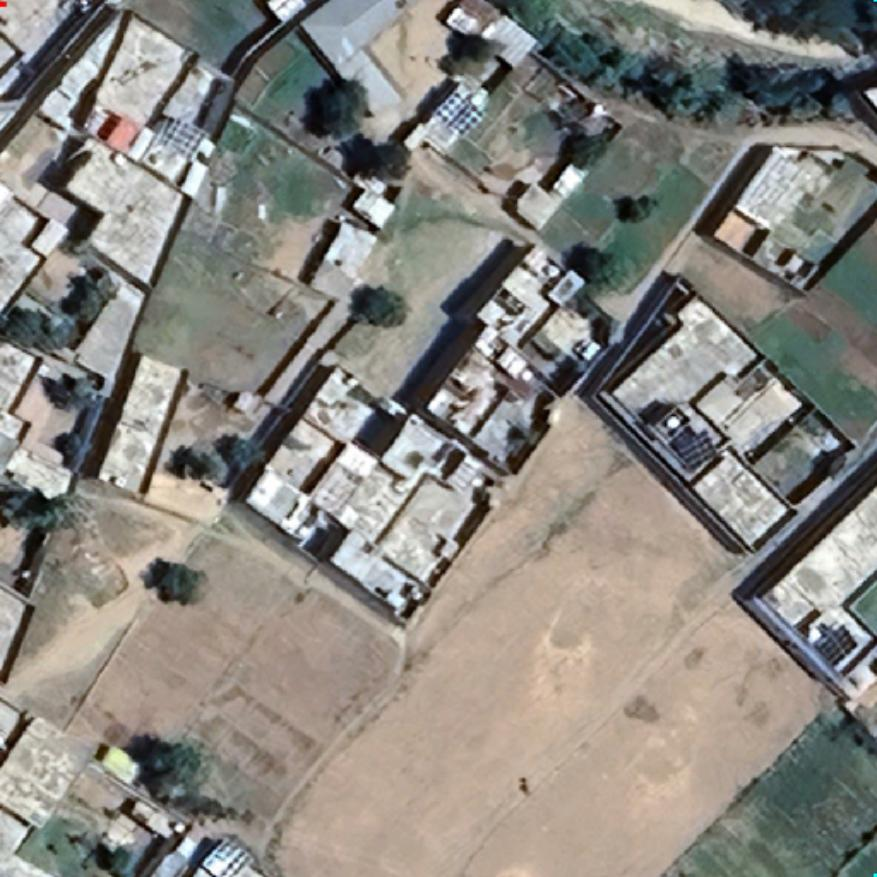Solarpanel: (814, 621, 860, 669), (670, 426, 720, 470)
